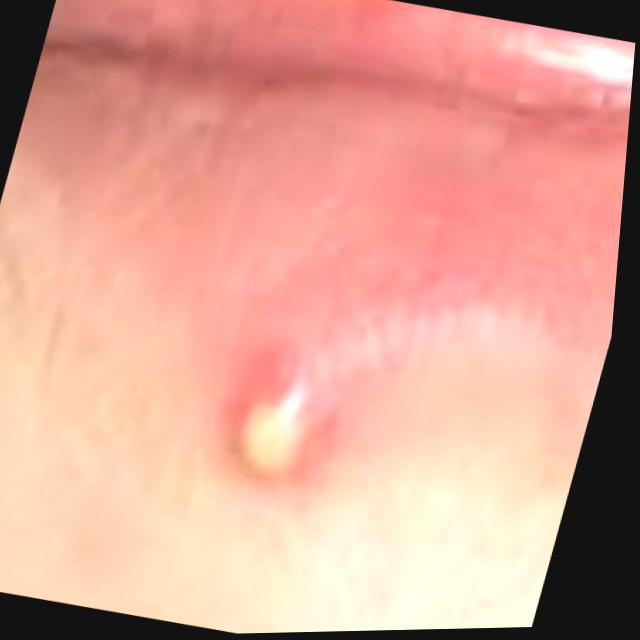pustule: (198, 338, 378, 555)
